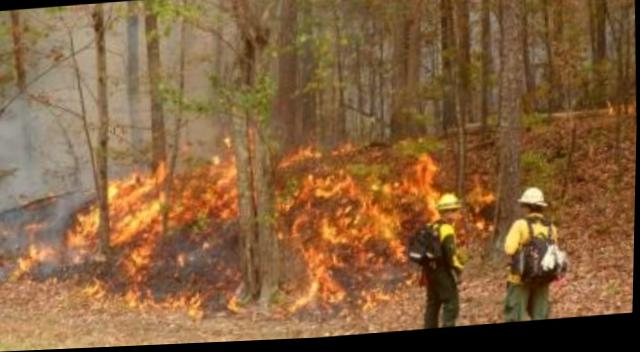fire: (0, 84, 514, 347)
